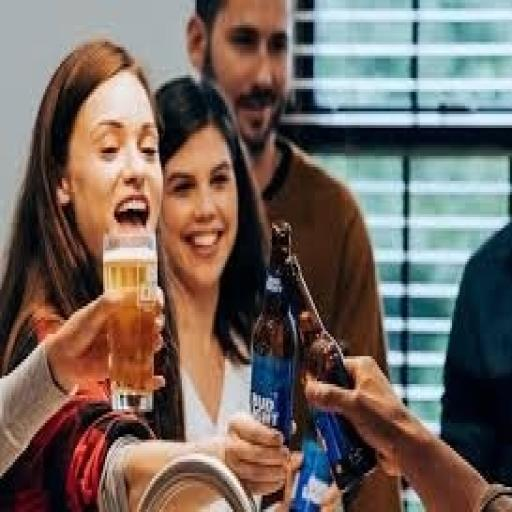drinking: (272, 220, 379, 504), (101, 228, 158, 415)
